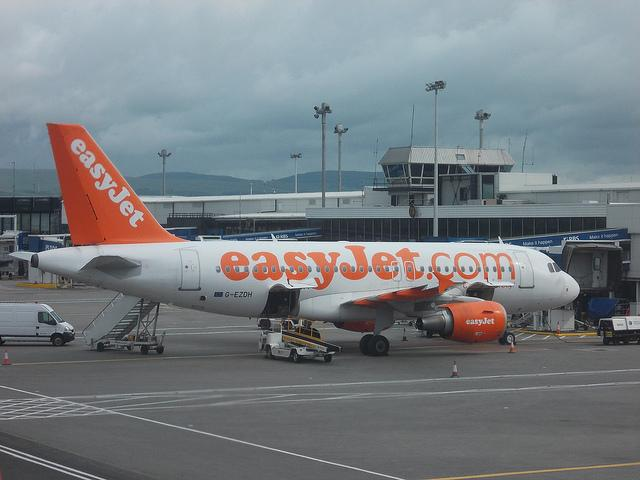airplane: (19, 117, 579, 357)
